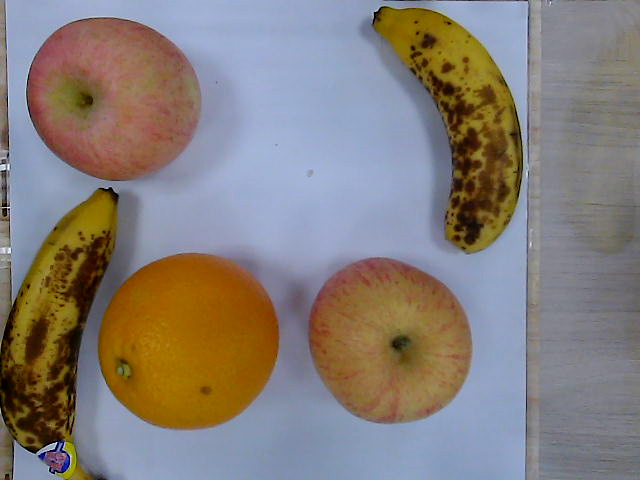fresh_apple: (27, 18, 202, 181), (309, 257, 473, 424)
fresh_orange: (99, 253, 280, 432)
rotten_banana: (371, 8, 525, 253), (1, 190, 117, 480)
